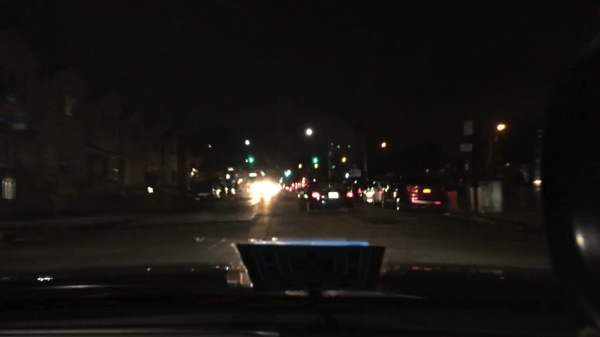car: (383, 177, 447, 214), (301, 177, 354, 214), (189, 182, 220, 204), (360, 181, 388, 204), (348, 179, 372, 198), (250, 180, 275, 196), (298, 179, 312, 199), (214, 180, 228, 198), (226, 182, 237, 197), (294, 181, 301, 193), (282, 182, 291, 191), (288, 183, 295, 192), (284, 174, 289, 177)
traffic light: (312, 158, 317, 164), (249, 158, 254, 163)
traffic sign: (11, 111, 30, 131), (462, 120, 472, 135), (459, 146, 472, 152)
